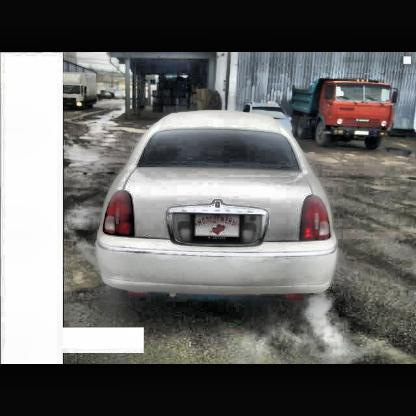Lincoln Town Car Sedan 2011: (95, 110, 341, 297)
